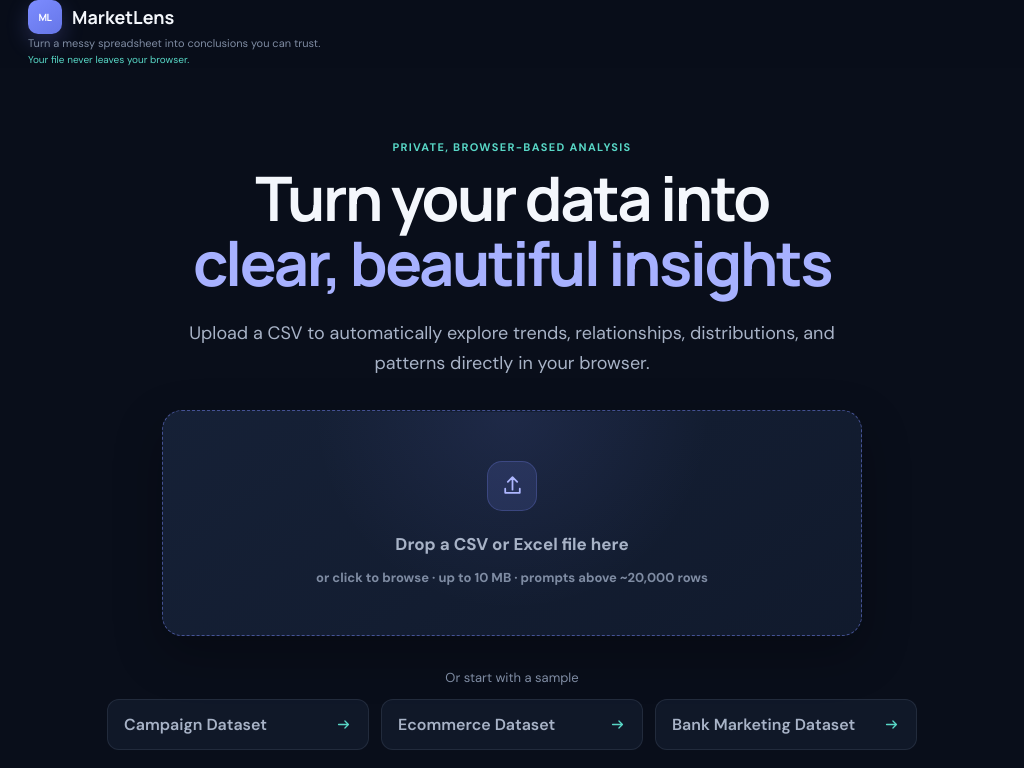
Test: shows a simple 20-row preview while keeping the full grid controls
Click the button "Ecommerce Dataset" at (512, 725), box [381,699,643,750]
(page scrolled)
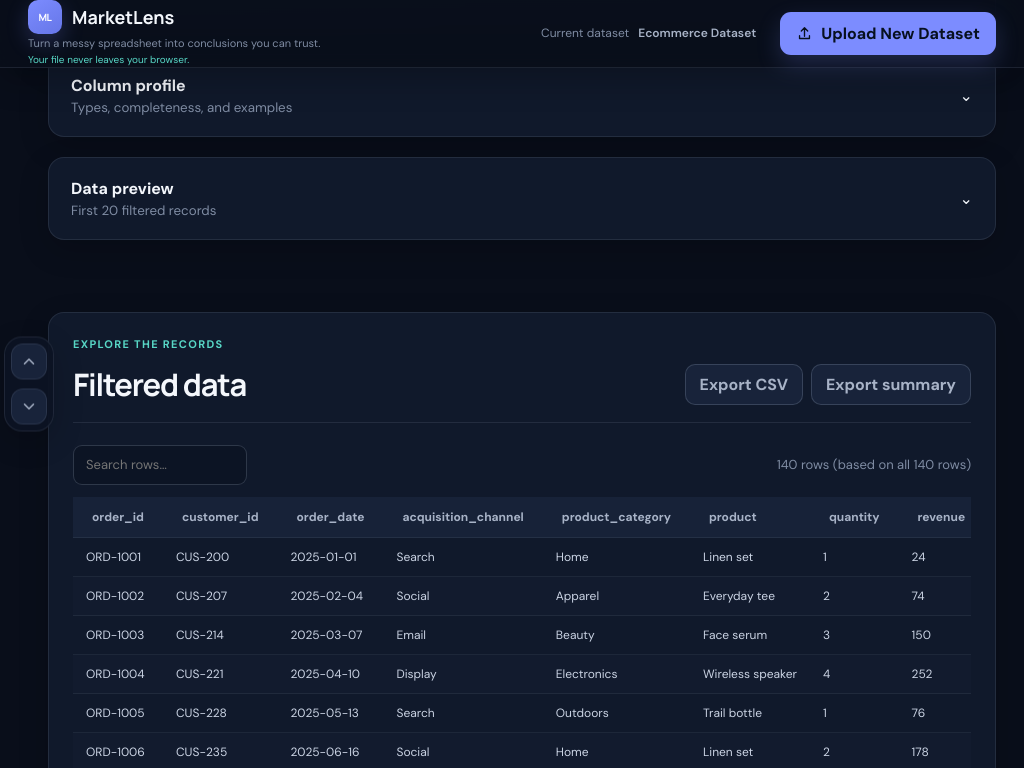
Expected: the field named "Search data rows" is shown, [73,445,247,485]
Expected: the button "Export CSV" is shown, [685,364,803,405]
